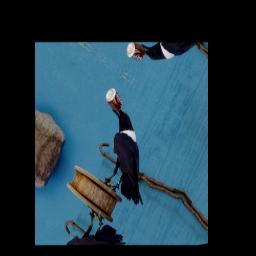Crow: (84, 103, 170, 213)
